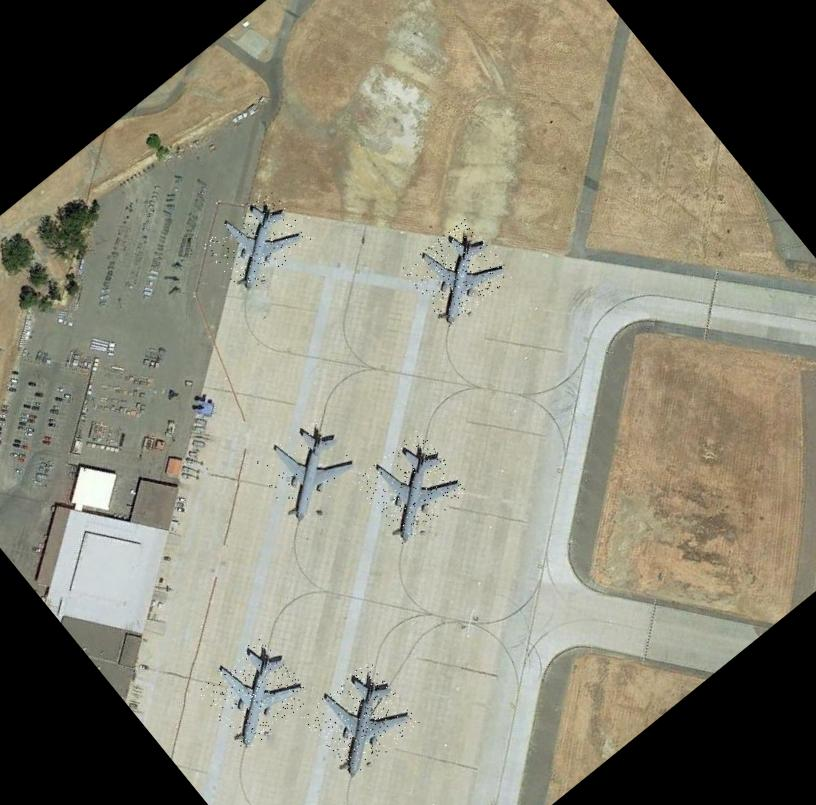A18: (300, 658, 420, 780), (194, 633, 315, 753), (352, 428, 469, 544), (249, 412, 363, 525), (400, 216, 514, 328), (200, 187, 312, 296)
